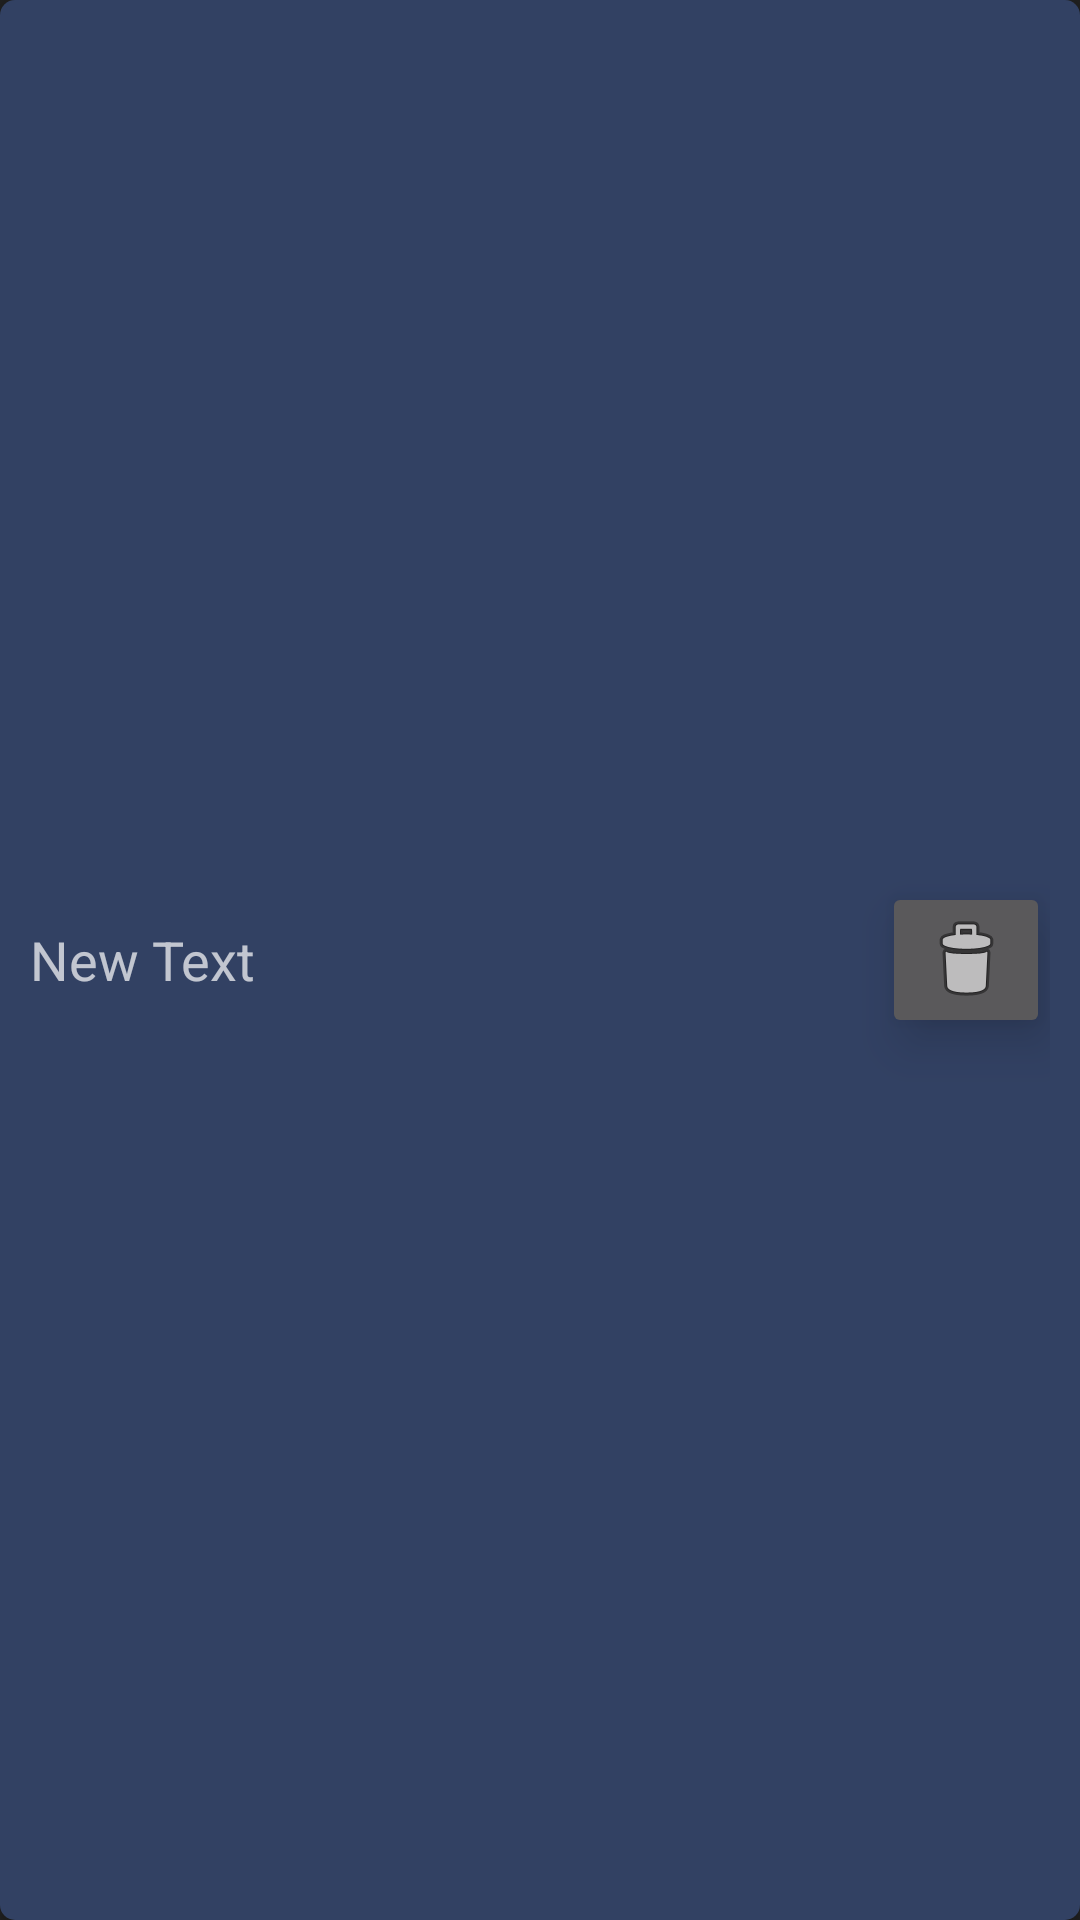

Icons on this 1080×1920 Android screen, each with its box as [x1,y1,x2,y2]:
Delete: [894,900,1038,1020]
